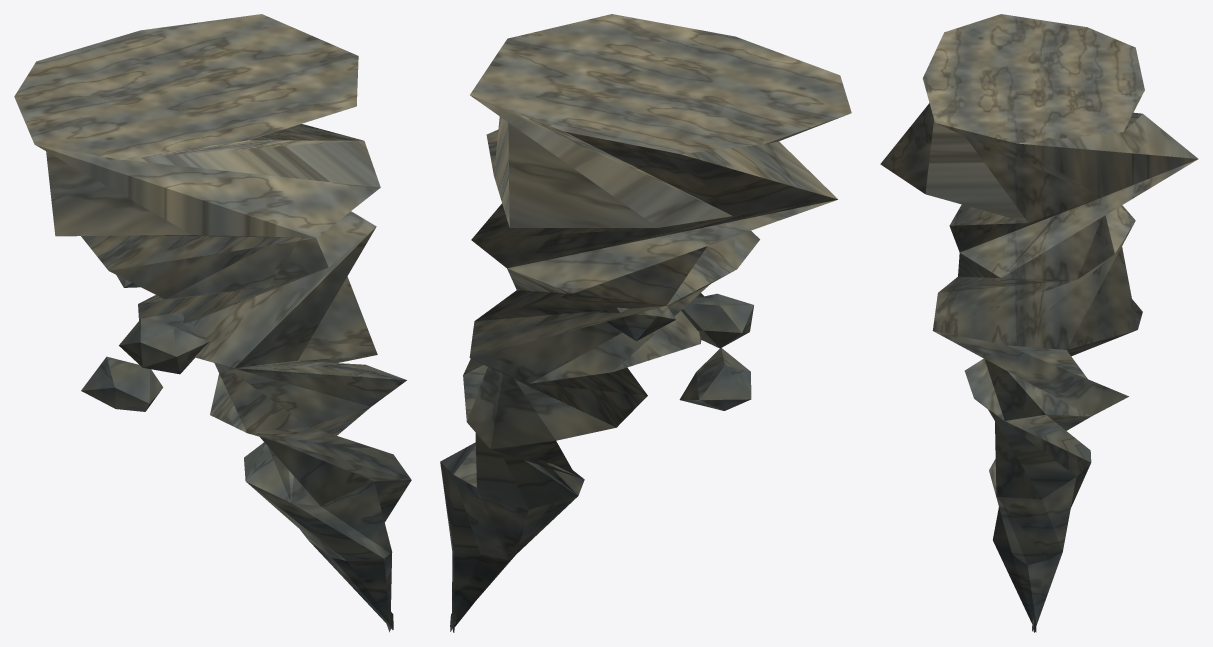
File: hanging_crag_cloud_a.glb
3 renders of one model, left to right at view 1: azimuth 30°, elevation 25°; view 2: azimuth 150°, elevation 25°; view 3: azimuth 270°, elevation 25°, orthographic. The views are drawn at different scales.
Parts seen in each view (by area): view 1: hanging_crag_cloud_a; view 2: hanging_crag_cloud_a; view 3: hanging_crag_cloud_a.
Part boxes in pixels (x1=…): hanging_crag_cloud_a: x1=14, y1=14, x2=411, y2=632; hanging_crag_cloud_a: x1=440, y1=14, x2=851, y2=632; hanging_crag_cloud_a: x1=880, y1=14, x2=1198, y2=632.
Size of the model in its own units: 5.48 by 8.1 by 4.94.
1 material, 1 textured.
